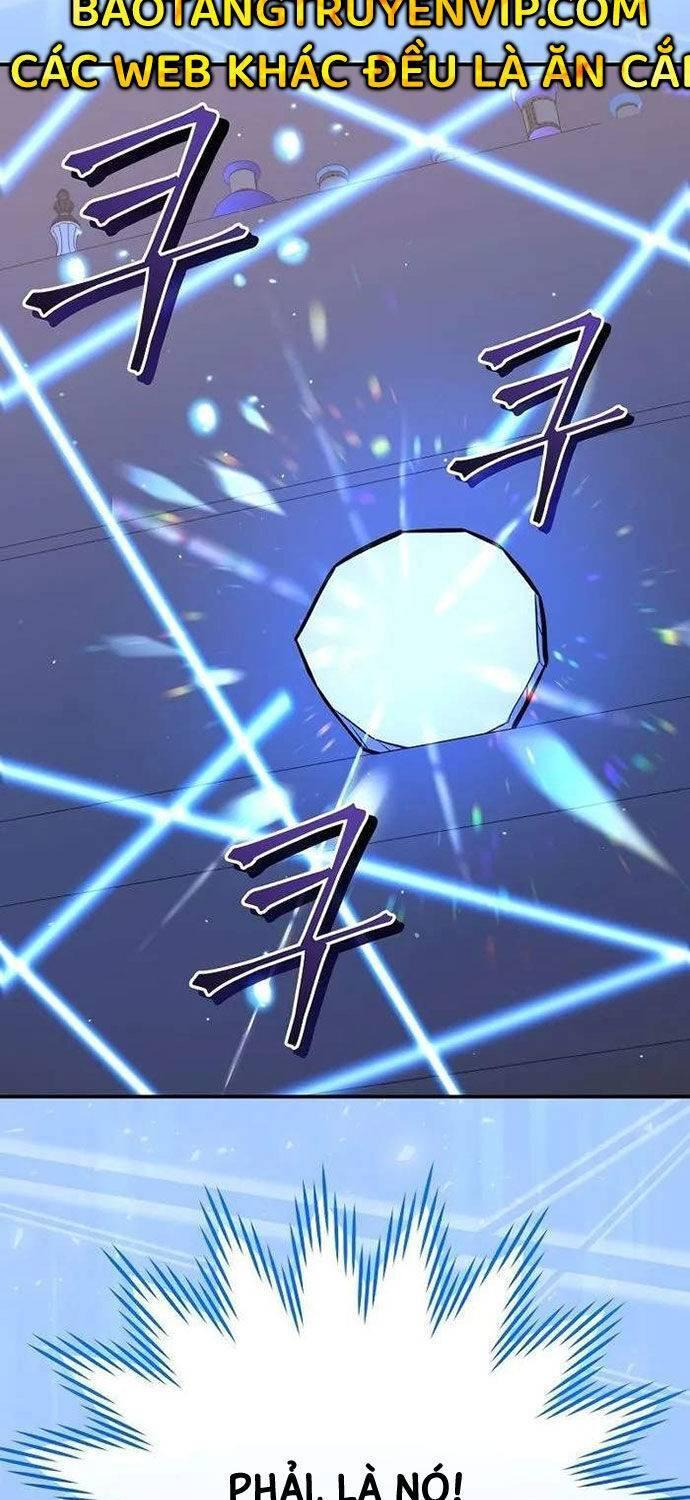quangcao: (0, 0, 690, 96)
